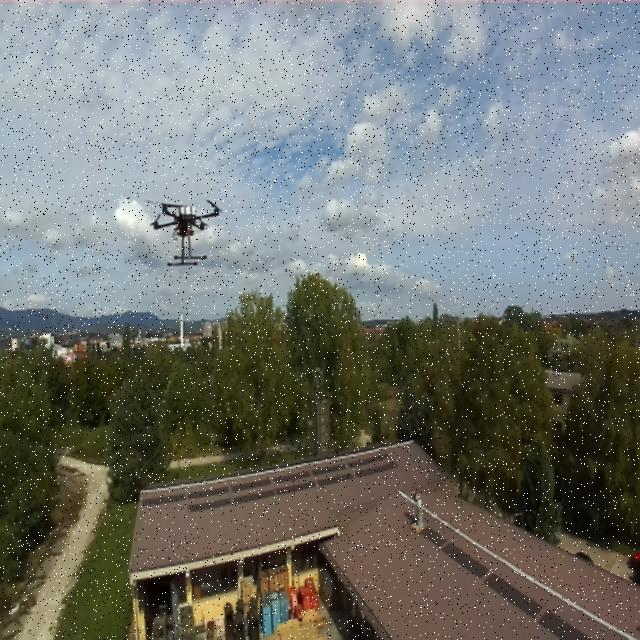UAV: (142, 189, 224, 271)
